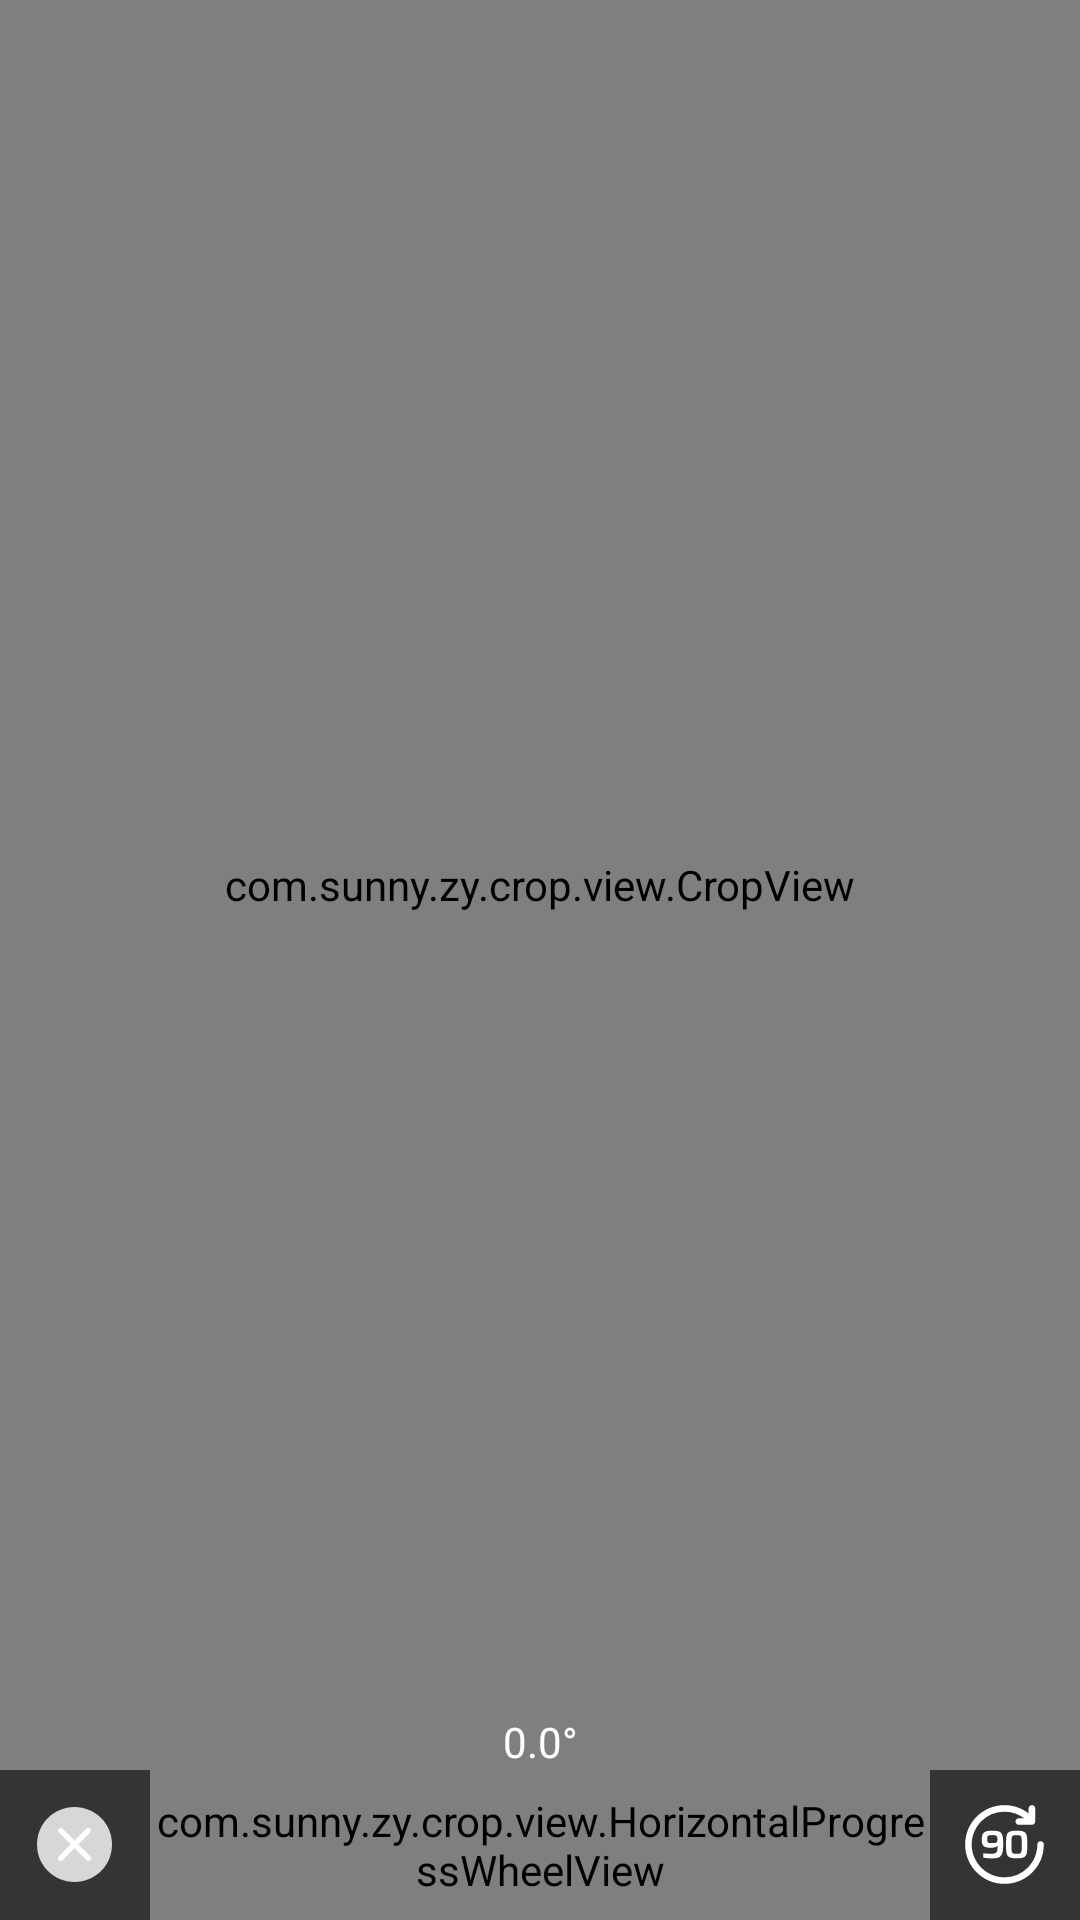

Where to tap for icons on this 1080×1920 app screen, as point (x, y):
crop rotate: point (1004, 1844)
sel edit clear: point (74, 1844)
